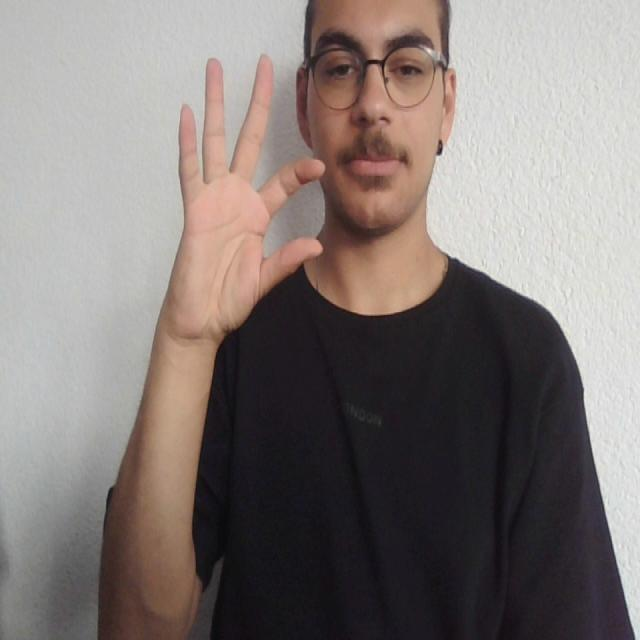Tuvalet: (122, 43, 354, 342)
